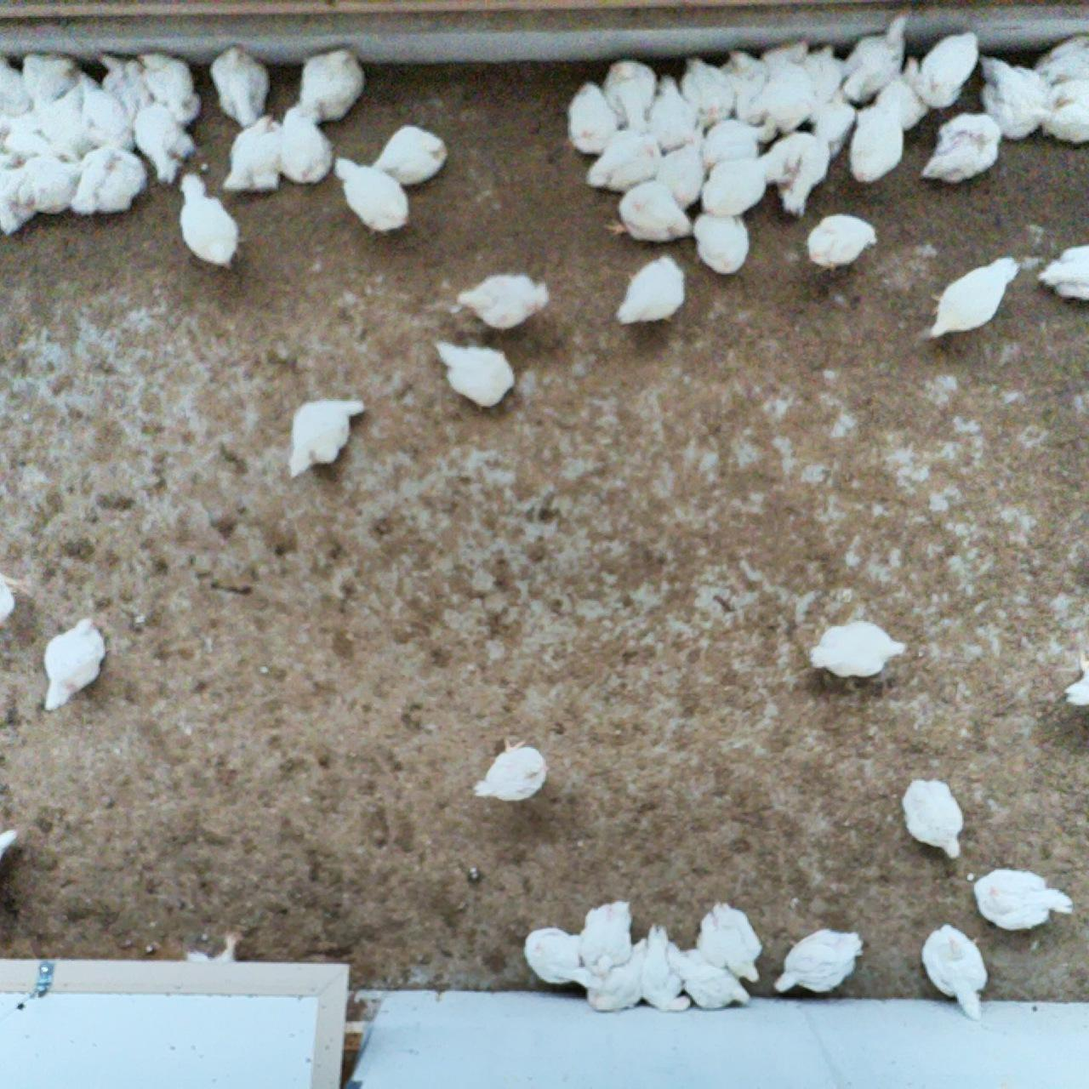chicken: (923, 250, 1025, 344), (915, 916, 995, 1026), (770, 918, 869, 1000), (968, 865, 1079, 937), (802, 615, 910, 689), (838, 6, 917, 107), (284, 392, 371, 480), (39, 612, 109, 718), (915, 106, 1004, 189), (975, 48, 1053, 142), (432, 336, 520, 419), (330, 152, 411, 240), (664, 935, 753, 1013), (455, 267, 553, 336), (899, 775, 973, 865), (611, 249, 690, 333), (694, 894, 764, 988), (176, 169, 241, 270), (603, 173, 695, 244), (133, 85, 198, 185), (71, 133, 147, 218), (762, 129, 832, 218), (205, 39, 271, 130), (471, 733, 551, 807), (296, 44, 370, 124), (220, 111, 288, 197), (583, 936, 651, 1017), (370, 123, 451, 191), (843, 101, 908, 185), (635, 921, 691, 1018), (583, 127, 662, 195), (917, 29, 983, 110), (574, 895, 636, 979), (697, 155, 777, 220), (6, 152, 86, 217), (803, 210, 879, 277), (687, 208, 755, 281), (133, 49, 199, 124), (599, 57, 658, 137), (564, 78, 621, 157), (645, 70, 702, 149), (871, 53, 927, 133), (655, 129, 708, 210), (520, 923, 586, 988), (79, 74, 134, 150), (700, 117, 777, 171), (1029, 77, 1089, 145), (37, 82, 89, 159), (677, 55, 736, 122), (95, 46, 149, 117), (1032, 236, 1089, 303), (753, 68, 814, 128), (720, 44, 767, 120), (21, 47, 79, 105), (810, 85, 858, 153), (1034, 31, 1089, 87), (802, 38, 848, 97), (0, 166, 37, 238), (0, 114, 53, 160), (0, 54, 35, 118), (0, 569, 31, 633), (761, 38, 810, 76)
